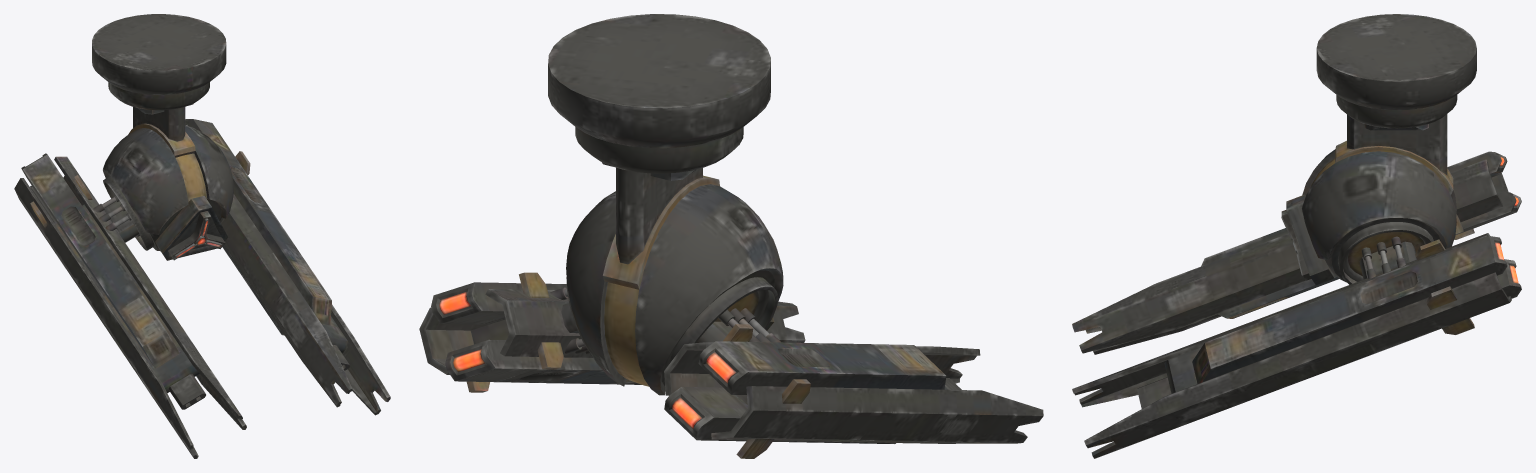
File: cargo_fixed_turret.glb
3 renders of one model, left to right at view 1: azimuth 30°, elevation 25°; view 2: azimuth 150°, elevation 25°; view 3: azimuth 270°, elevation 25°, orthographic. The views are drawn at different scales.
Visible parts, largest first — view 1: KB3D_BMK_PropSecurityTurretA; view 2: KB3D_BMK_PropSecurityTurretA; view 3: KB3D_BMK_PropSecurityTurretA.
Part boxes in pixels (x1,y1,x2,y2): KB3D_BMK_PropSecurityTurretA: [14, 14, 390, 458]; KB3D_BMK_PropSecurityTurretA: [419, 14, 1043, 458]; KB3D_BMK_PropSecurityTurretA: [1072, 14, 1521, 458].
Bounding box in the file's own units: 1.42 × 1.94 × 2.2.
Materials: 1 (1 with a texture image).
